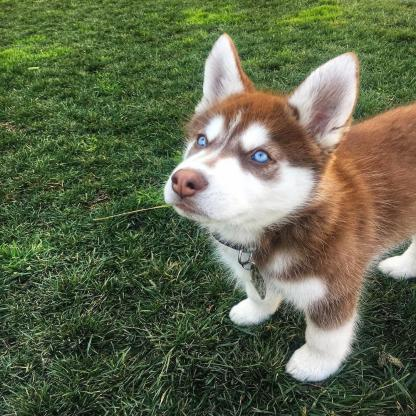dog: (156, 34, 416, 382)
